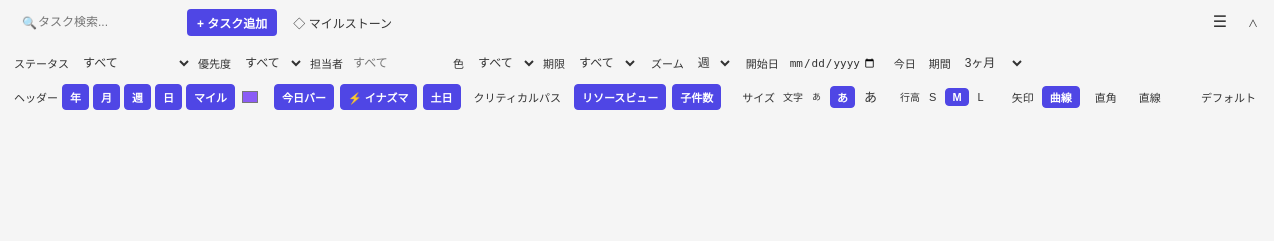
Scenario: Toolbar 担当者フィルタ ピン留め › ピン留めした担当者が、名前昇順では最後になる場合でもリスト先頭に来る
The image size is (1274, 241).
Step 1. Focus the dropdown named "担当者で絞り込み" → (397, 63), box [347,51,447,75]
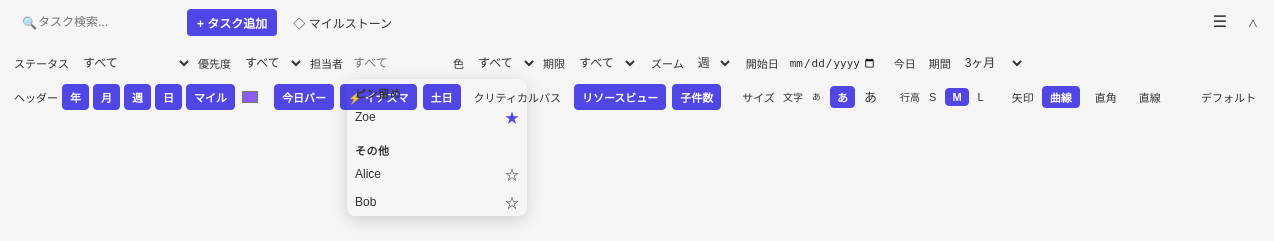
Check: the option with test id "assignee-option" showing "Zoe ★" is shown, box [347,103,527,131]
Check: the button "Zoe" is shown, box [347,105,493,129]
